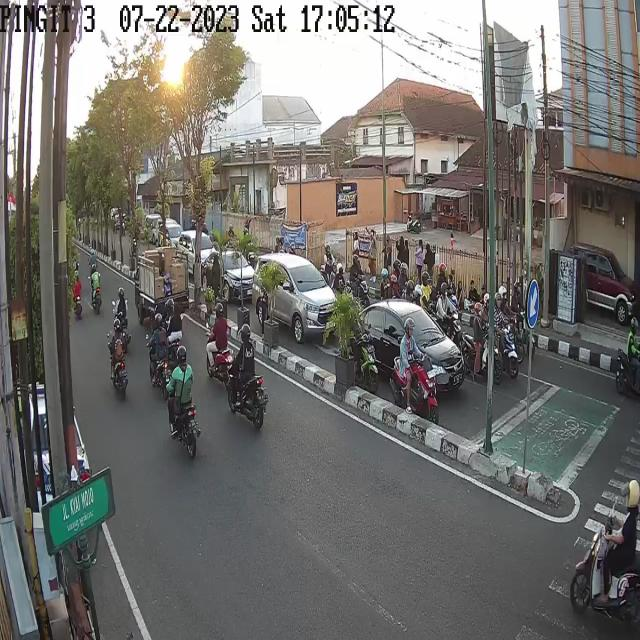car: (354, 296, 469, 392), (251, 252, 336, 344), (574, 244, 638, 327), (206, 250, 254, 304), (165, 220, 182, 244)
motorcycle: (570, 469, 640, 626), (388, 331, 439, 418), (166, 346, 201, 458), (231, 326, 265, 430), (611, 309, 640, 400), (492, 294, 520, 386), (466, 304, 494, 384), (208, 301, 234, 387), (144, 316, 172, 392), (106, 319, 130, 400), (112, 288, 134, 356), (160, 298, 181, 358), (90, 269, 103, 319), (71, 267, 82, 322)
truck: (132, 240, 192, 324)
